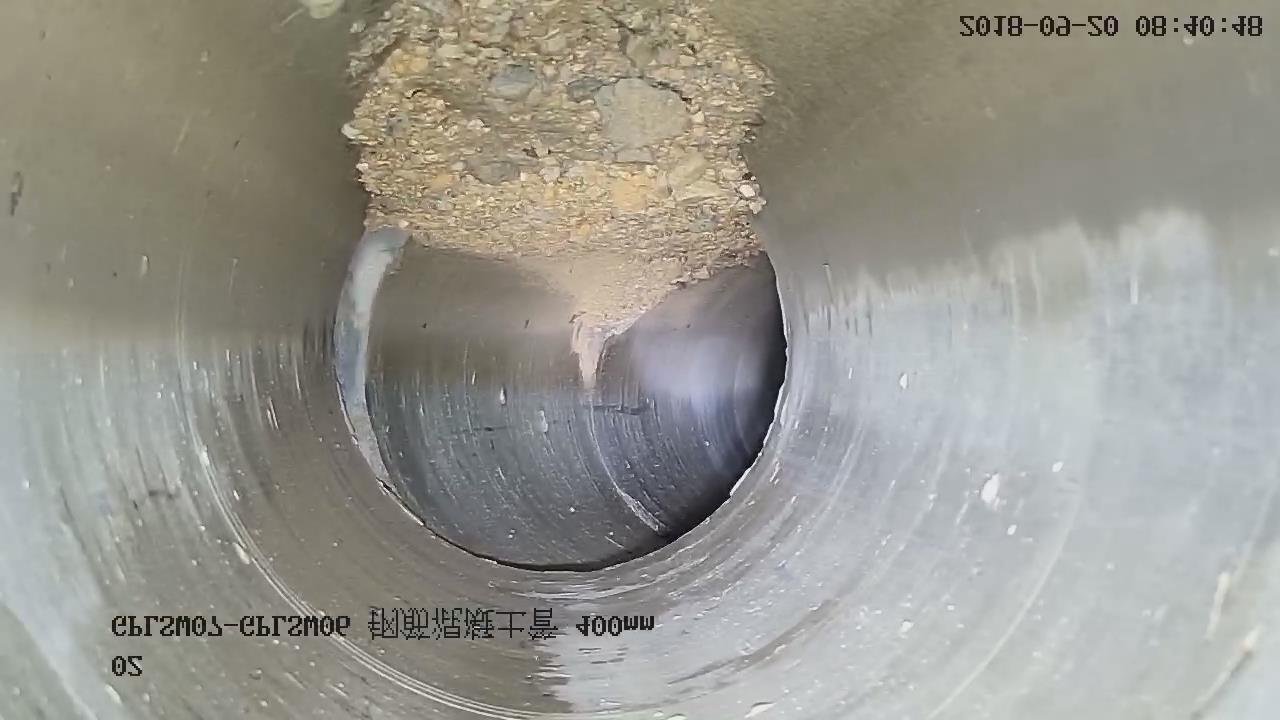CJ: (342, 1, 772, 336)
CKTJ: (331, 225, 408, 492)
